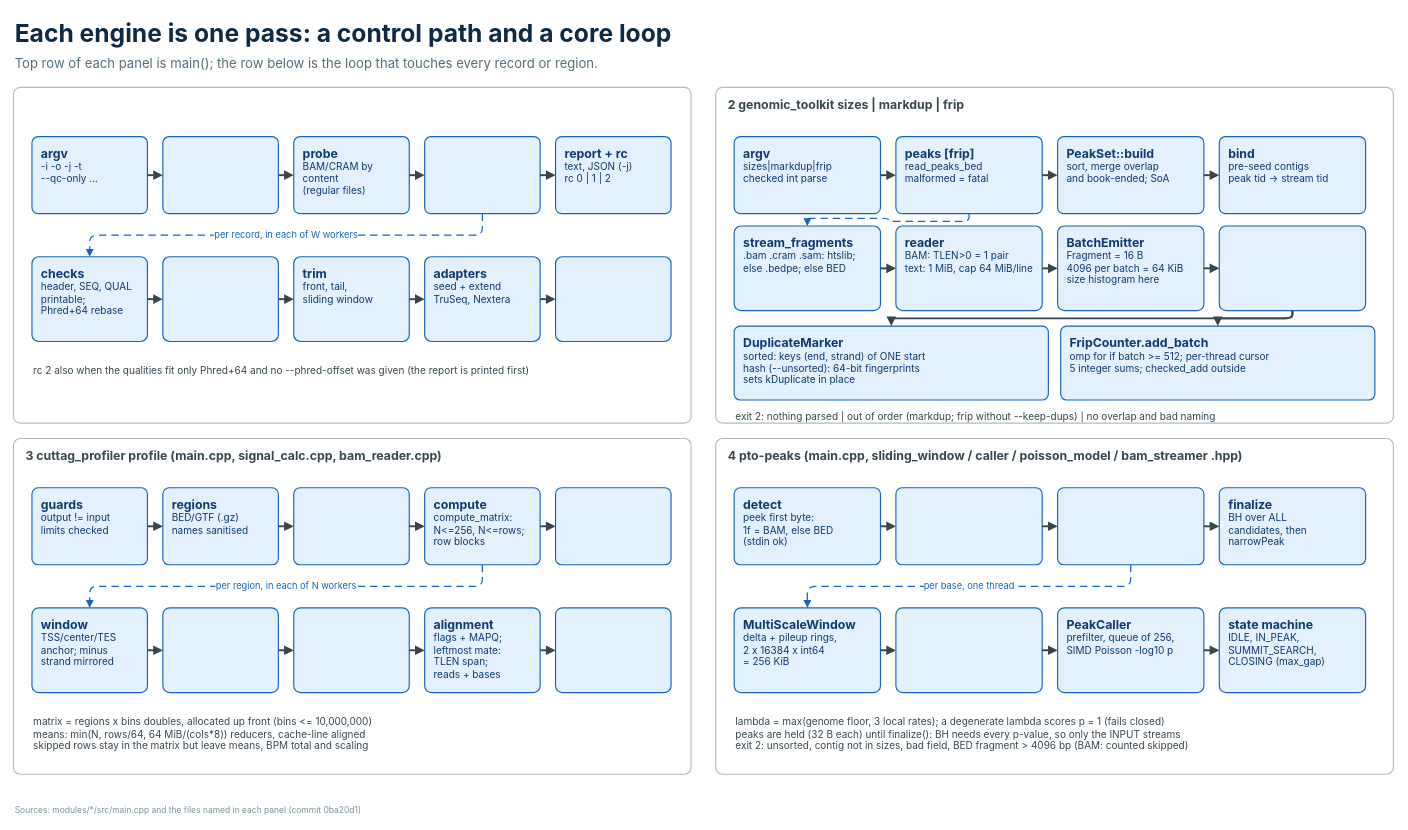
Image size: 1408x830. Some labels were removed from this diagram. The box of each missing label's shape, as (x1, y1, x2, y2) in pixels:
1 fastq_stream qc | trim (main.cpp, pipeline.cpp): (13, 86, 691, 423)
3 backgrounds centred 1k, 5k, 10k running sums; lag = 5000 bases: (895, 607, 1042, 693)
BamReader header, index; mapped total from index metadata: (293, 487, 409, 565)
consumers sizes: histogram markdup: marker frip: marker + count: (1218, 225, 1366, 311)
Driver.add order and bounds checked; seek across coverage deserts: (1057, 487, 1204, 565)
filters min_len, max_n, min_mean_q: (555, 256, 671, 342)
finish scale, means, write TSV; all skipped: rc 2: (555, 487, 671, 565)
QC on RAW counts, Q20/Q30 GC, N, per cycle: (162, 256, 279, 342)
query_bins widen by max fragment; sam_itr_queryi: (293, 607, 409, 693)
records BAM: BGZF + CRC32, leftmost mate TLEN>0 BED: 4 MiB blocks: (895, 487, 1042, 565)
row fill bins; minus strand reversed: 5' to 3': (555, 607, 671, 693)
run_pipeline see page 2: 3 + D + W threads: (424, 136, 540, 214)
skip? no such contig, or off the contig: row = missing: (162, 607, 279, 693)
validate ranges, adapters; usage error = rc 2: (162, 136, 279, 214)
